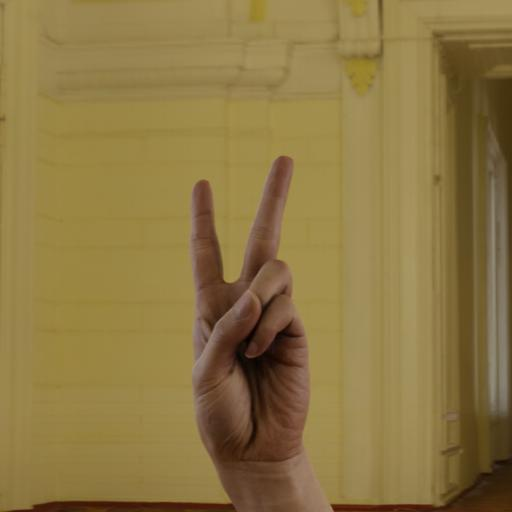V: (141, 129, 354, 484)
